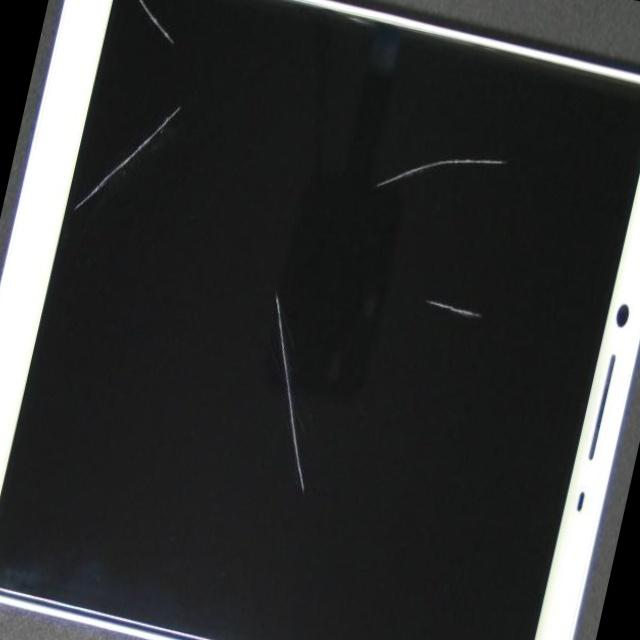scratch: (138, 310, 496, 640), (336, 0, 640, 284), (130, 0, 260, 238), (39, 0, 184, 95)
